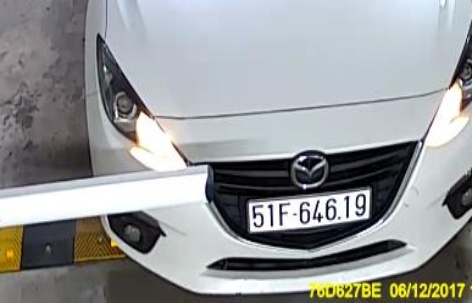plate: (242, 190, 372, 238)
